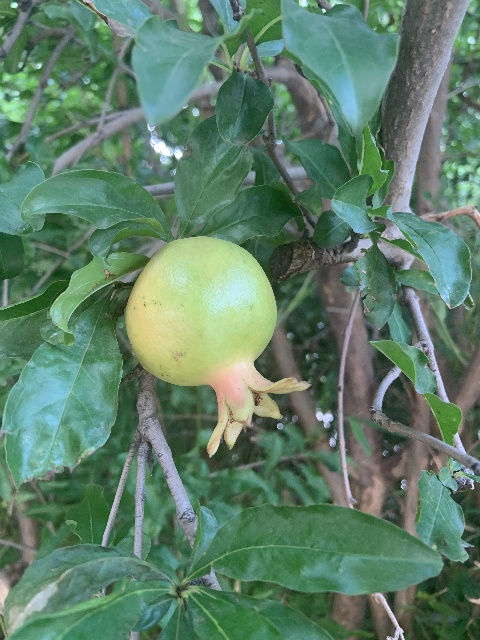early-fruit: (123, 236, 310, 457)
mid-growth: (123, 235, 308, 458)
